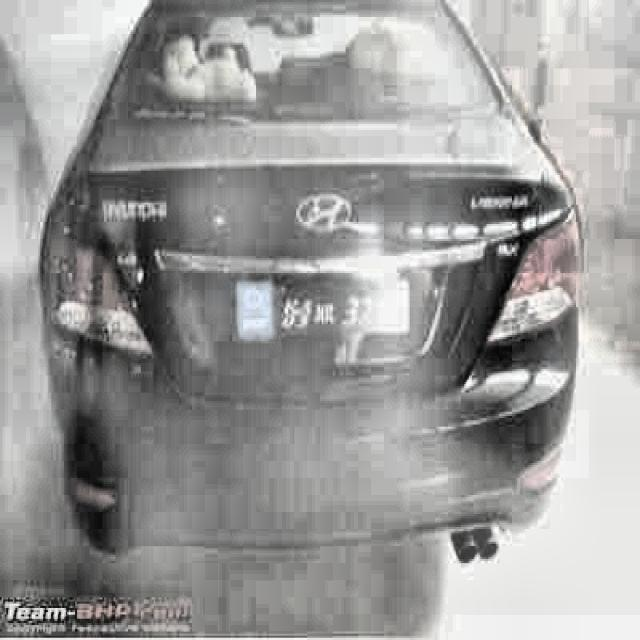license_plate: (231, 272, 407, 337)
